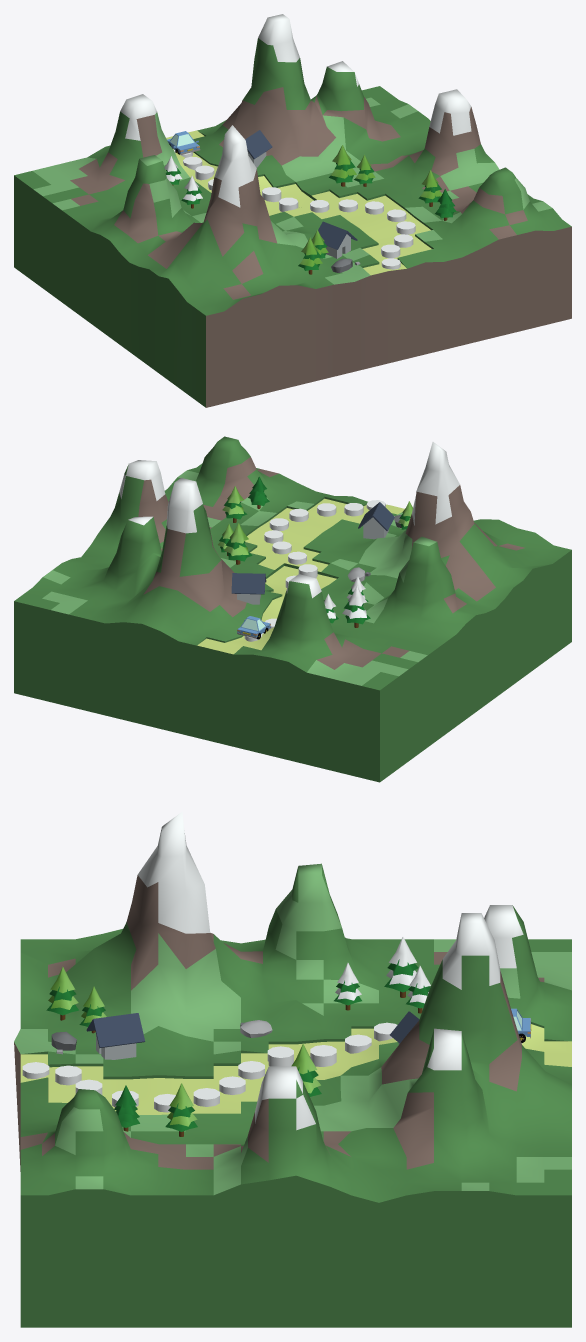
The model's file is LevelMenu.fbx.
3 views of the same model, one above another, from view 1: azimuth 30°, elevation 25°; view 2: azimuth 150°, elevation 25°; view 3: azimuth 270°, elevation 25° (orthographic). The views are drawn at different scales.
Parts seen in each view (by area): view 1: Box002, Cone012, Box003, Box004, Box044; view 2: Box002, Cone012, Box004, Box003, Box044; view 3: Box002, Cone012, Box003, Box007.
Part boxes in pixels (box(x1,y1,x2,y2)): Box002: box(14, 14, 571, 407); Cone012: box(164, 145, 456, 274); Box003: box(318, 221, 357, 258); Box004: box(245, 130, 272, 167); Box044: box(167, 131, 200, 154); Box002: box(14, 436, 571, 782); Cone012: box(218, 476, 412, 627); Box004: box(231, 573, 266, 604); Box003: box(358, 502, 394, 539); Box044: box(237, 616, 270, 638); Box002: box(14, 811, 571, 1327); Cone012: box(46, 937, 430, 1136); Box003: box(86, 1013, 145, 1059); Box007: box(51, 1020, 272, 1054).
Size of the model in its own units: 291 by 173 by 268.
26 materials, 22 textured.
